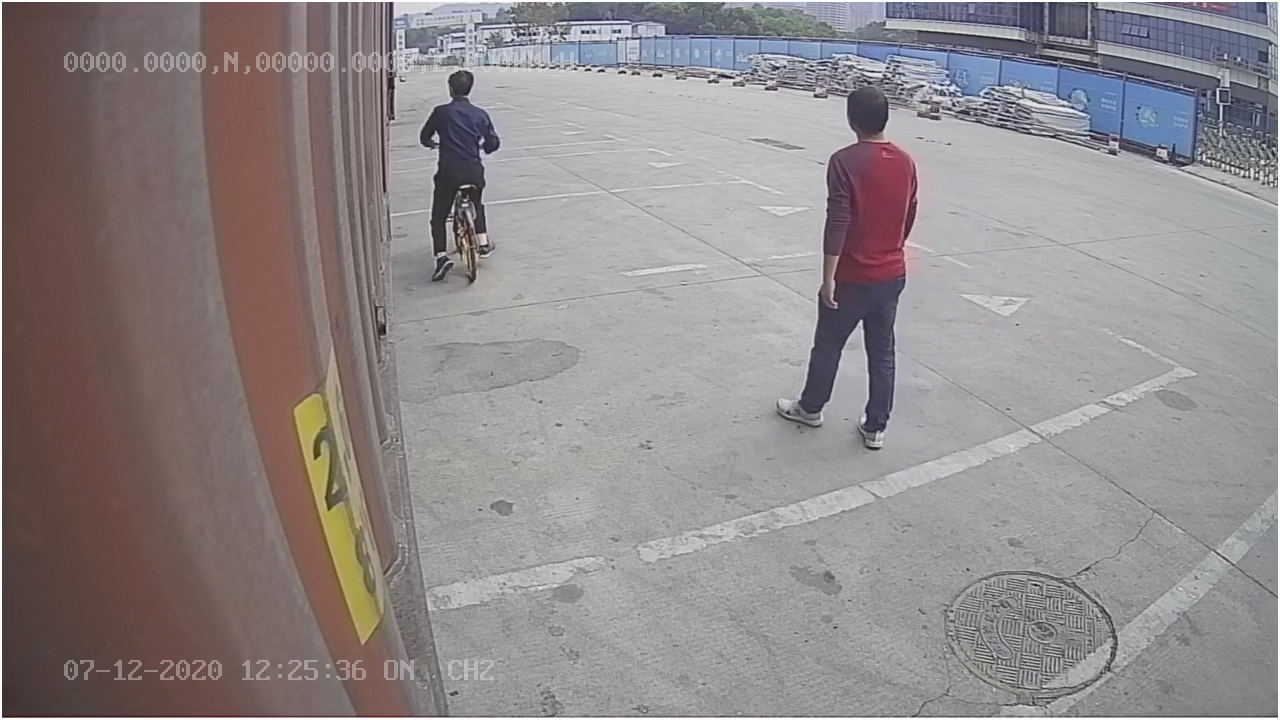person: (764, 84, 922, 456)
